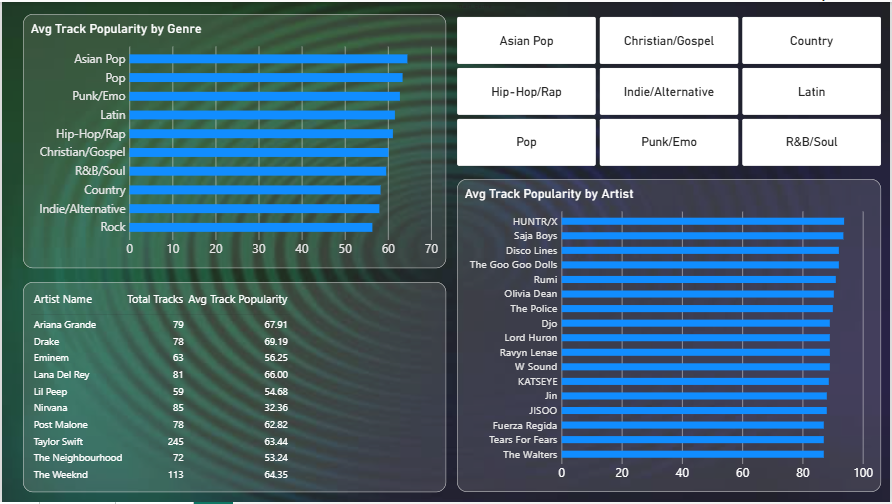

The dashboard page shown, as its layout file describes it:
{"tool":"powerbi","page":{"name":"Page 3","canvas":[1920,1080],"ordinal":2},"visuals":[{"type":"barChart","title":"Avg Track Popularity by Genre","fields":{"Category":["spotify_tracks_final.main_genre"],"Y":["spotify_tracks_cleaned.Avg Track Popularity"]},"box":[45.4,25.9,913.7,548.6],"z":0},{"type":"barChart","title":"Avg Track Popularity by Artist","fields":{"Category":["spotify_tracks_cleaned.artist_name"],"Y":["spotify_tracks_cleaned.Avg Track Popularity"]},"box":[982.8,382.3,915.8,676.1],"z":1},{"type":"tableEx","fields":{"Values":["spotify_tracks_cleaned.artist_name","spotify_tracks_cleaned.Total Tracks","spotify_tracks_cleaned.Avg Track Popularity"]},"box":[45.4,604.8,914,454],"z":2},{"type":"advancedSlicerVisual","fields":{"Values":["spotify_tracks_final.main_genre"]},"box":[982.8,0,916,356],"z":3}]}

Visuals, with their boxes in screenshot pixels (x1, y1, x2, y2), scaled from the page's 1920x1080 canvas onto the 892x504 screenshot:
"Avg Track Popularity by Genre" barChart: detection(21, 12, 446, 268)
"Avg Track Popularity by Artist" barChart: detection(457, 178, 882, 494)
tableEx - spotify_tracks_cleaned.artist_name x spotify_tracks_cleaned.Total Tracks: detection(21, 282, 446, 494)
advancedSlicerVisual - spotify_tracks_final.main_genre: detection(457, 0, 882, 166)
